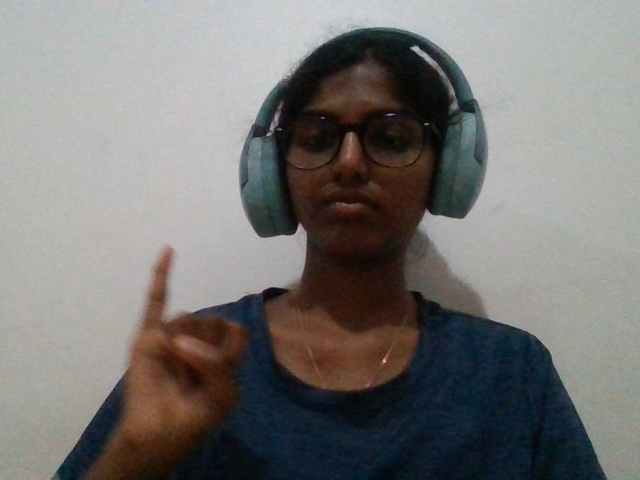I: (87, 230, 268, 471)
